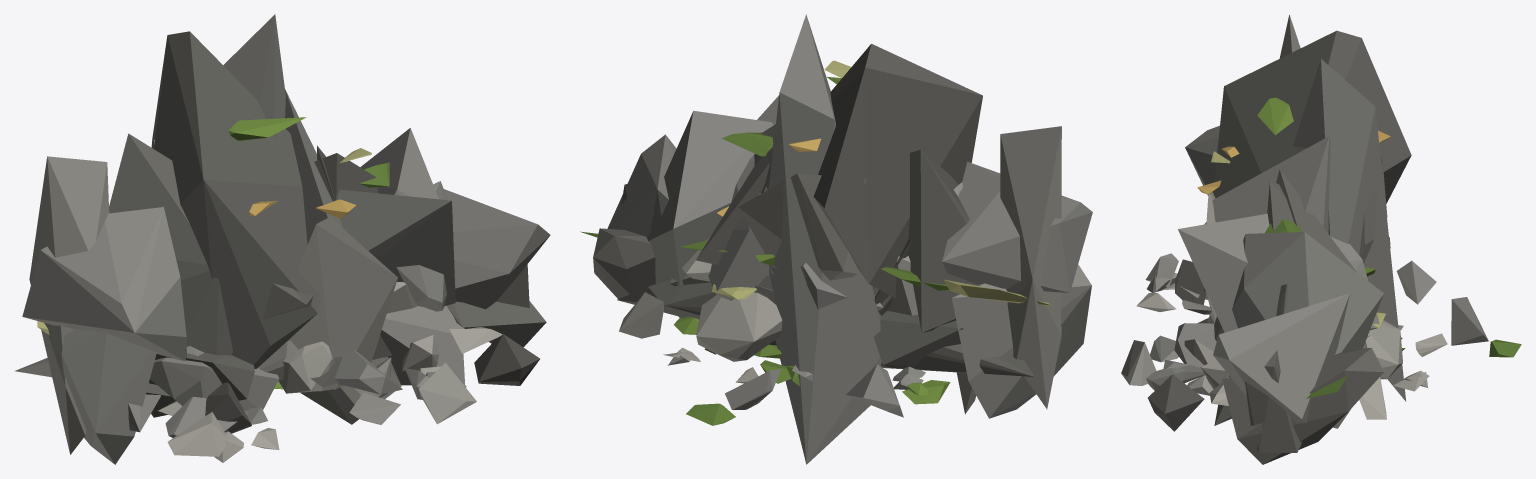
The model's file is crags.glb.
3 views of the same model, side by side, from view 1: azimuth 30°, elevation 25°; view 2: azimuth 150°, elevation 25°; view 3: azimuth 270°, elevation 25° (orthographic). The views are drawn at different scales.
Visible parts, largest first — view 1: crag_tor, crag_cliff, crag_outcrop, crag_ridge, crag_boulders, crag_scree; view 2: crag_tor, crag_cliff, crag_outcrop, crag_ridge, crag_boulders, crag_scree; view 3: crag_tor, crag_cliff, crag_outcrop, crag_ridge, crag_scree, crag_boulders.
Boxes of the visible parts, x1,y1,x2,y2 form: crag_tor: (128,14,476,432); crag_cliff: (22,89,550,437); crag_outcrop: (37,301,546,464); crag_ridge: (14,153,529,454); crag_boulders: (150,282,418,410); crag_scree: (158,366,466,462); crag_tor: (619,14,982,464); crag_cliff: (607,76,1092,332); crag_outcrop: (580,228,1091,425); crag_ridge: (617,124,1061,414); crag_boulders: (682,206,782,361); crag_scree: (663,347,925,389); crag_tor: (1121,30,1488,419); crag_cliff: (1148,97,1383,431); crag_outcrop: (1145,237,1521,464); crag_ridge: (1245,14,1367,452); crag_scree: (1136,273,1447,395); crag_boulders: (1207,312,1402,379).
Size of the model in its own units: 1.31 by 1.07 by 1.07.
